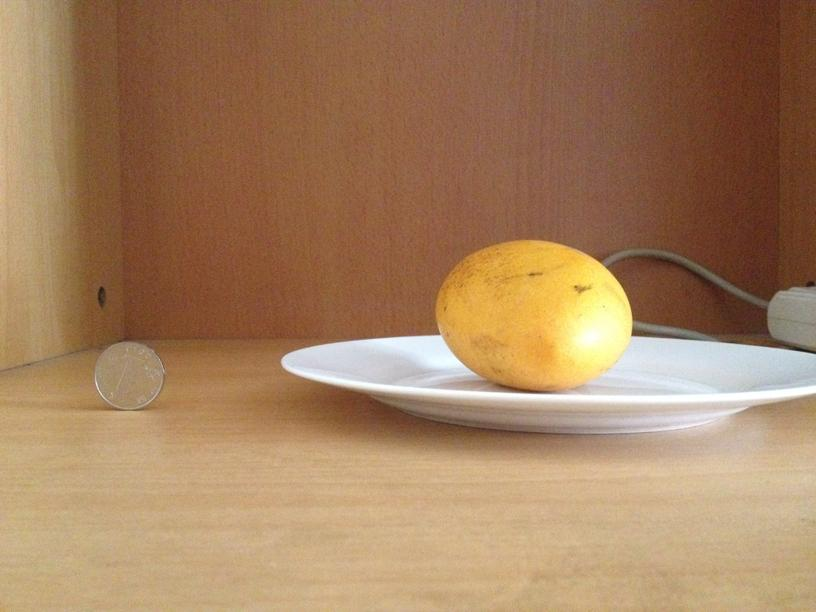coin: (91, 342, 166, 410)
mango: (433, 235, 632, 390)
